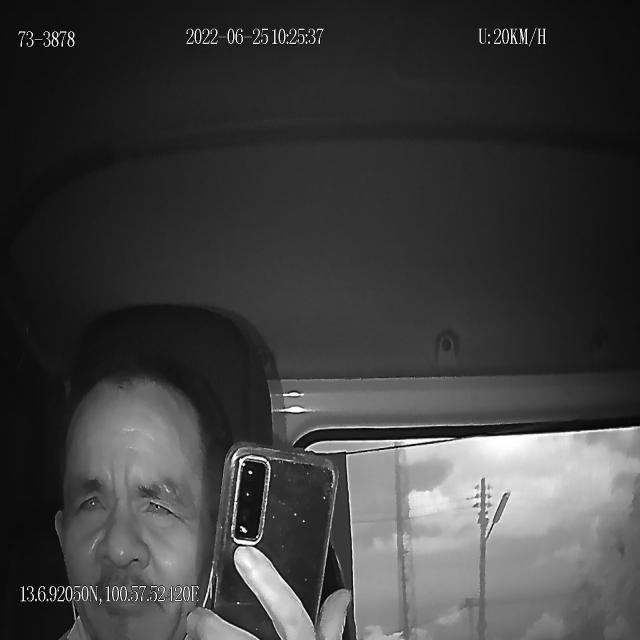phone: (212, 440, 338, 640)
